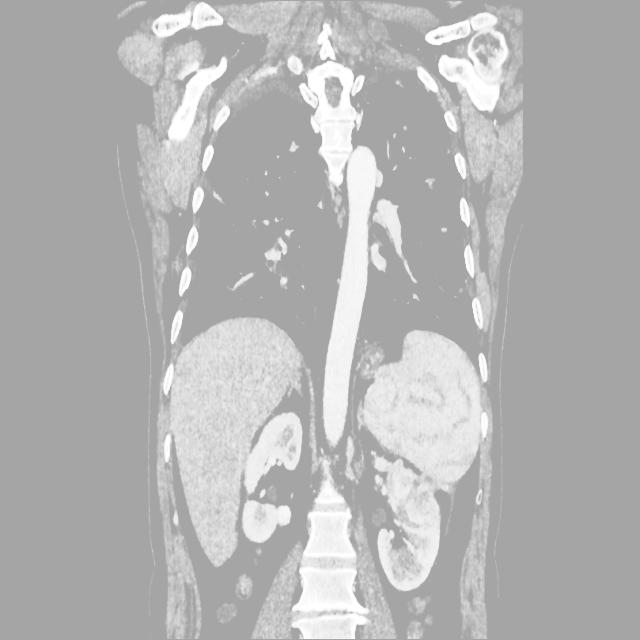TUMOR: (185, 203, 640, 477)
